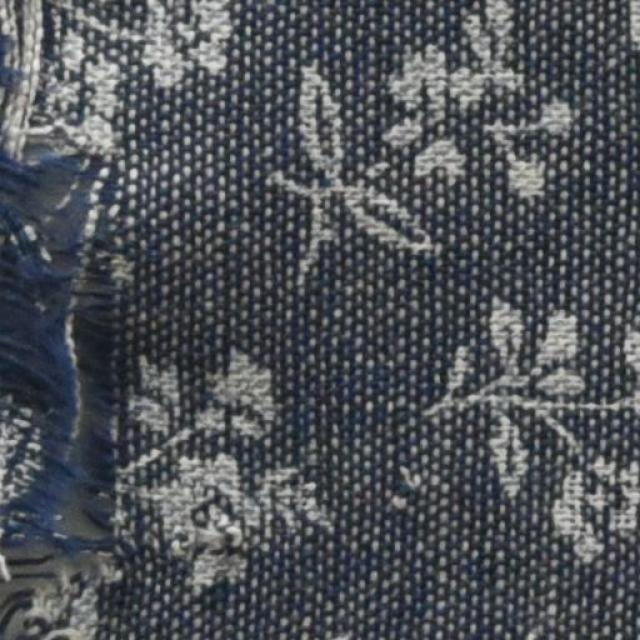Snag: (0, 0, 154, 633)
